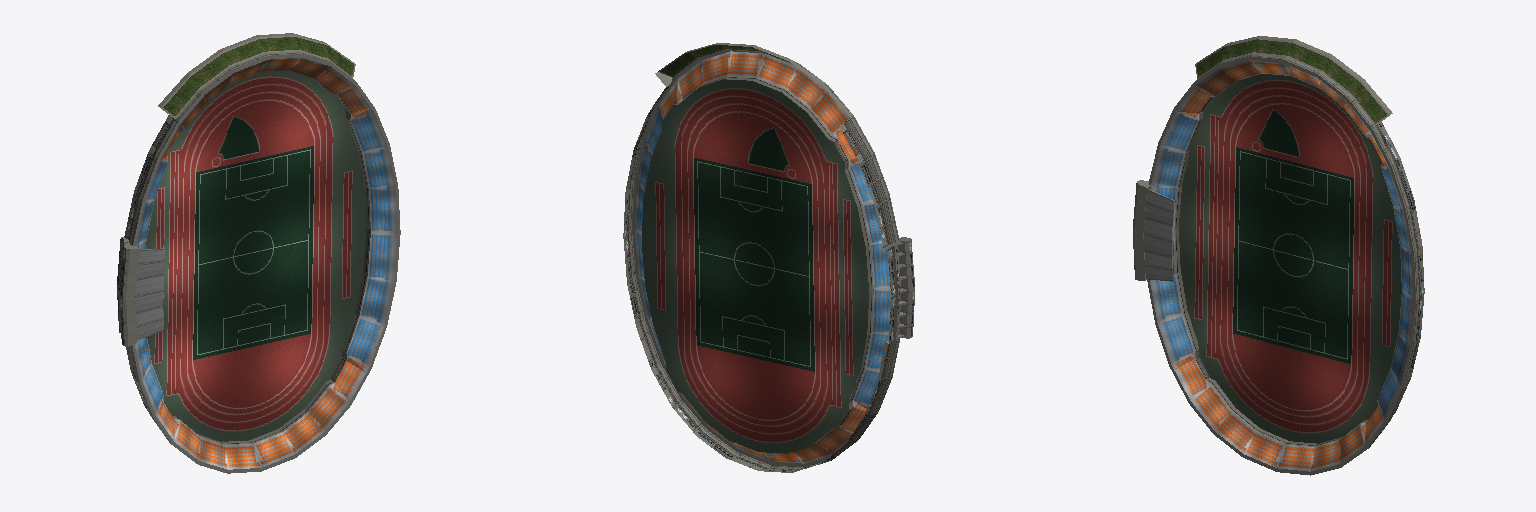
3 views of the same model, side by side, from view 1: azimuth 30°, elevation 25°; view 2: azimuth 150°, elevation 25°; view 3: azimuth 330°, elevation 25° (orthographic).
Visible parts, largest first — view 1: KOR_TD0003_GYN_MIRYANG_PUB_PG_L; view 2: KOR_TD0003_GYN_MIRYANG_PUB_PG_L; view 3: KOR_TD0003_GYN_MIRYANG_PUB_PG_L.
Part boxes in pixels (bbox=[...]): KOR_TD0003_GYN_MIRYANG_PUB_PG_L: bbox=[117, 33, 400, 473]; KOR_TD0003_GYN_MIRYANG_PUB_PG_L: bbox=[623, 43, 914, 472]; KOR_TD0003_GYN_MIRYANG_PUB_PG_L: bbox=[1133, 36, 1424, 475].
Bounding box in the file's own units: 138 × 200 × 13.6.
1 materials, 1 textured.